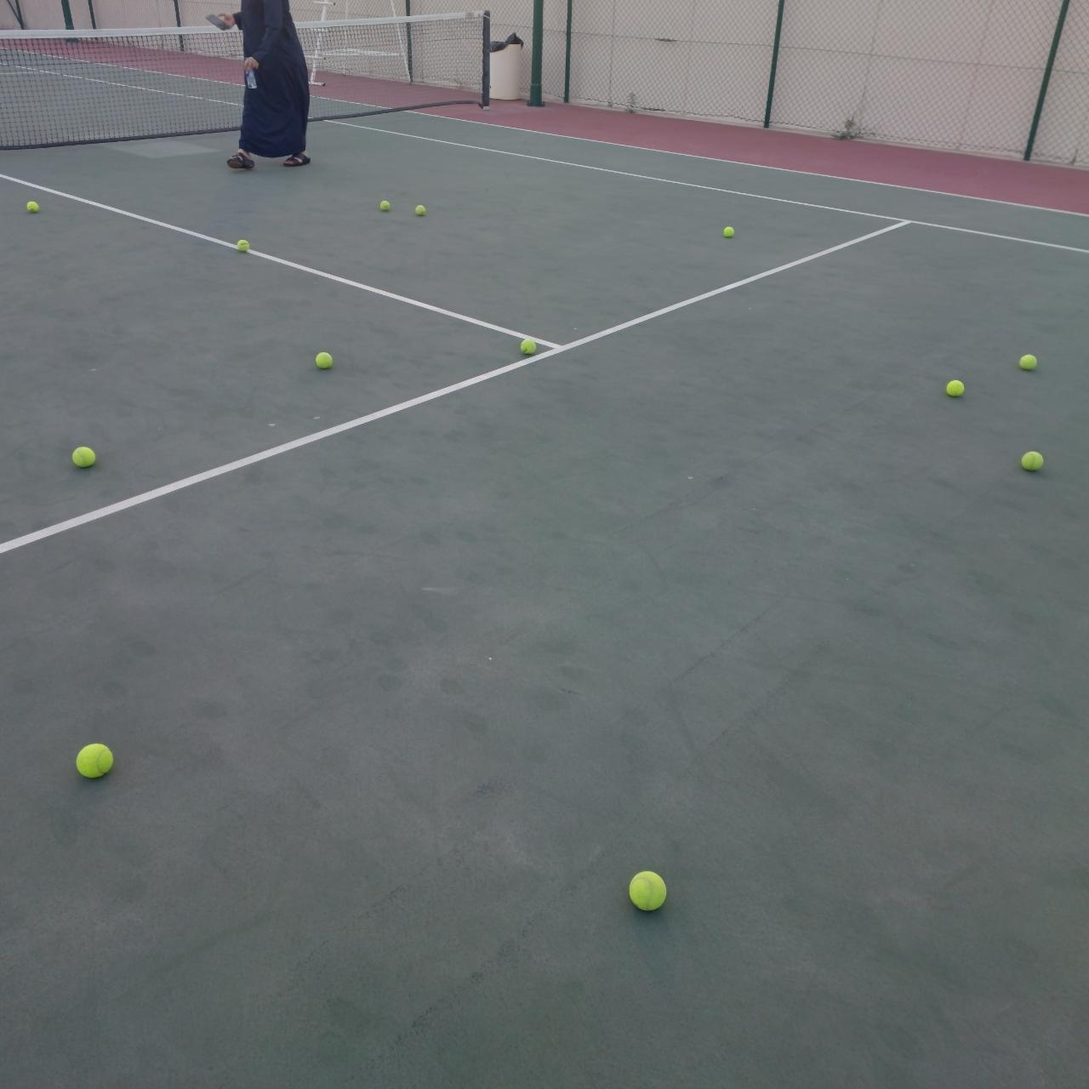tennis-ball: (628, 868, 669, 911), (76, 740, 115, 778), (71, 443, 98, 468), (1021, 448, 1046, 471), (1019, 351, 1039, 371), (946, 377, 966, 396), (316, 350, 334, 368), (521, 336, 539, 354), (723, 224, 736, 237), (237, 239, 250, 252), (27, 201, 39, 213), (415, 205, 426, 216), (380, 200, 391, 211)
